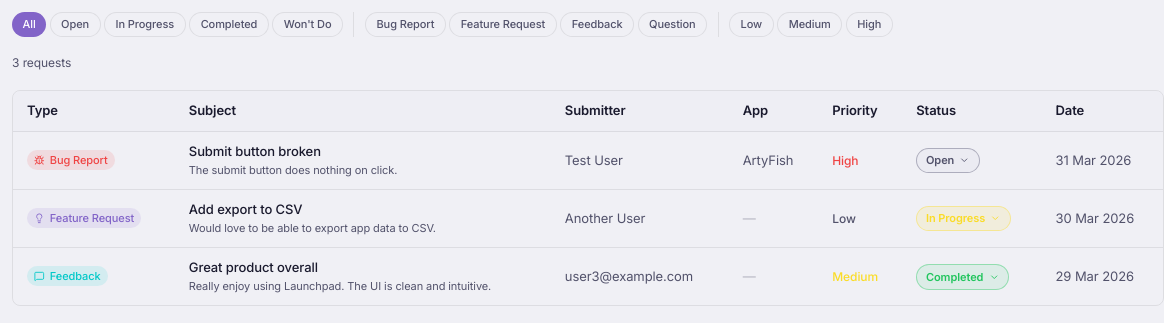
Test case: SupportAdminClient › Filtering › filters by status — completed only
Step 1. Click the button with test id "filter-status-completed" → click(229, 24), box x1=189 y1=12 x2=269 y2=36
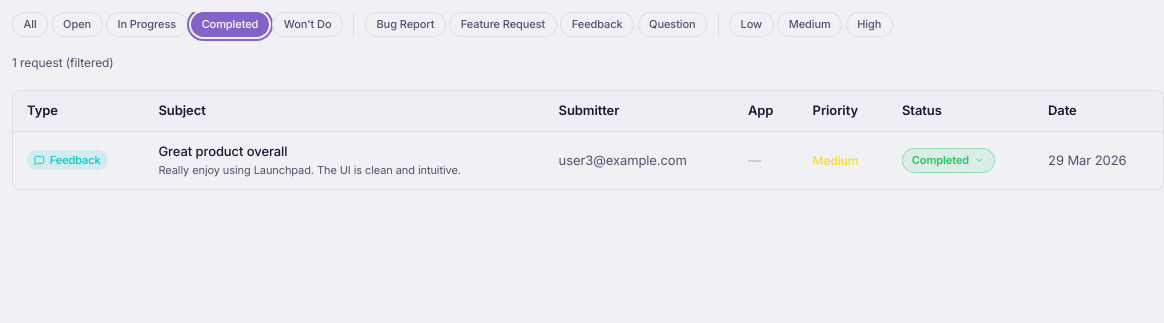
Expected: the text "Great product overall" is shown, x1=158 y1=142 x2=288 y2=158
Expected: the text "Submit button broken" is gone
